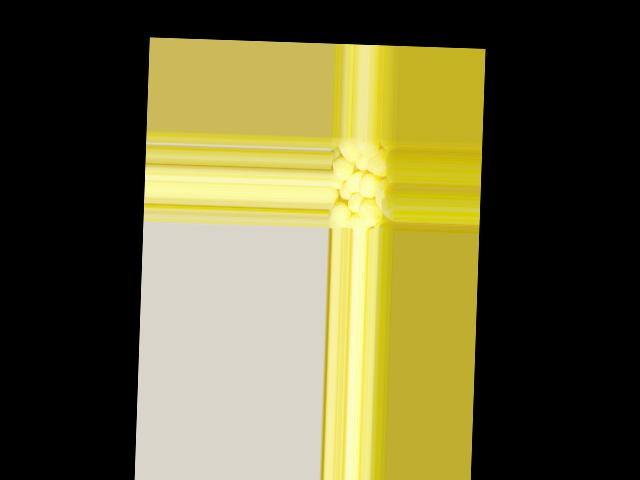lemon: (331, 150, 354, 183)
